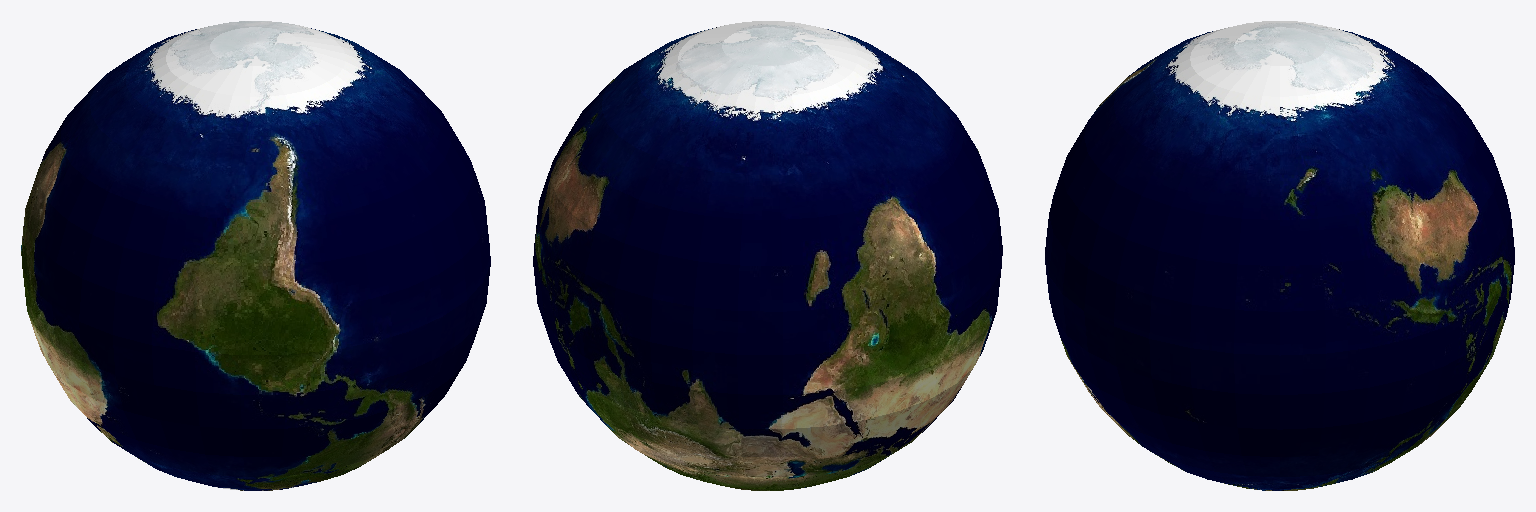
The picture shows the model from 3 angles: view 1: azimuth 30°, elevation 25°; view 2: azimuth 150°, elevation 25°; view 3: azimuth 270°, elevation 25°; orthographic projection.
Parts seen in each view (by area): view 1: 球体; view 2: 球体; view 3: 球体.
Part boxes in pixels (bbox=[...]): 球体: bbox=[21, 21, 490, 490]; 球体: bbox=[533, 21, 1002, 490]; 球体: bbox=[1045, 21, 1514, 490].
Size of the model in its own units: 2 by 2 by 2.
Materials: 1 (1 with a texture image).